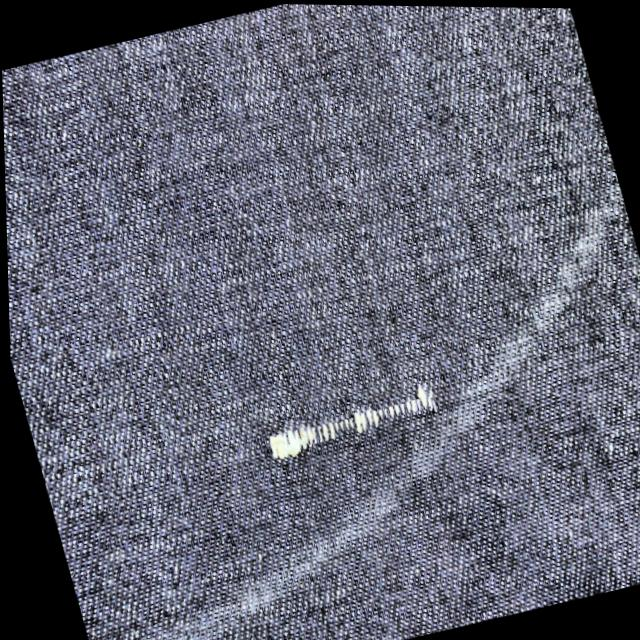Hole: (242, 357, 456, 495)
